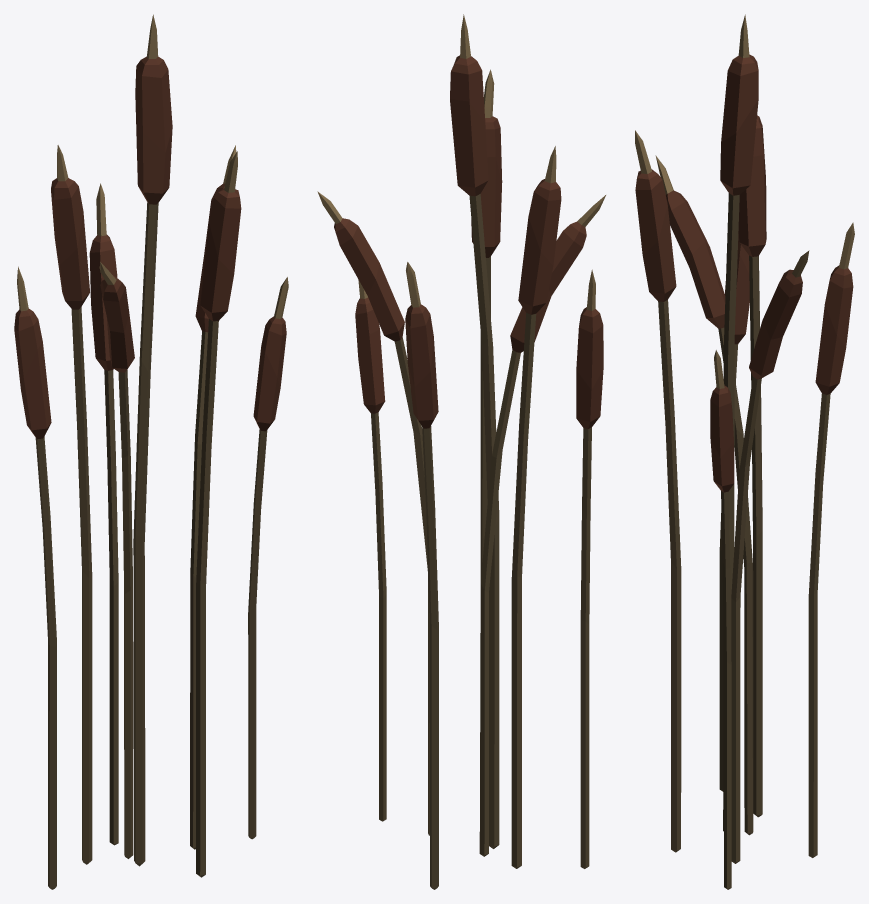
File: swp_Env_Reeds_02.glb
3 views of the same model, side by side, from view 1: azimuth 30°, elevation 25°; view 2: azimuth 150°, elevation 25°; view 3: azimuth 270°, elevation 25° (orthographic).
Parts seen in each view (by area): view 1: SM_Env_Reeds_02_LOD0; view 2: SM_Env_Reeds_02_LOD0; view 3: SM_Env_Reeds_02_LOD0.
Boxes of the visible parts, bbox=[...] form: SM_Env_Reeds_02_LOD0: bbox=[14, 14, 288, 889]; SM_Env_Reeds_02_LOD0: bbox=[317, 14, 605, 889]; SM_Env_Reeds_02_LOD0: bbox=[635, 14, 854, 889].
Bounding box in the file's own units: 1.09 × 3.43 × 0.8086.
Materials: 1 (1 with a texture image).
